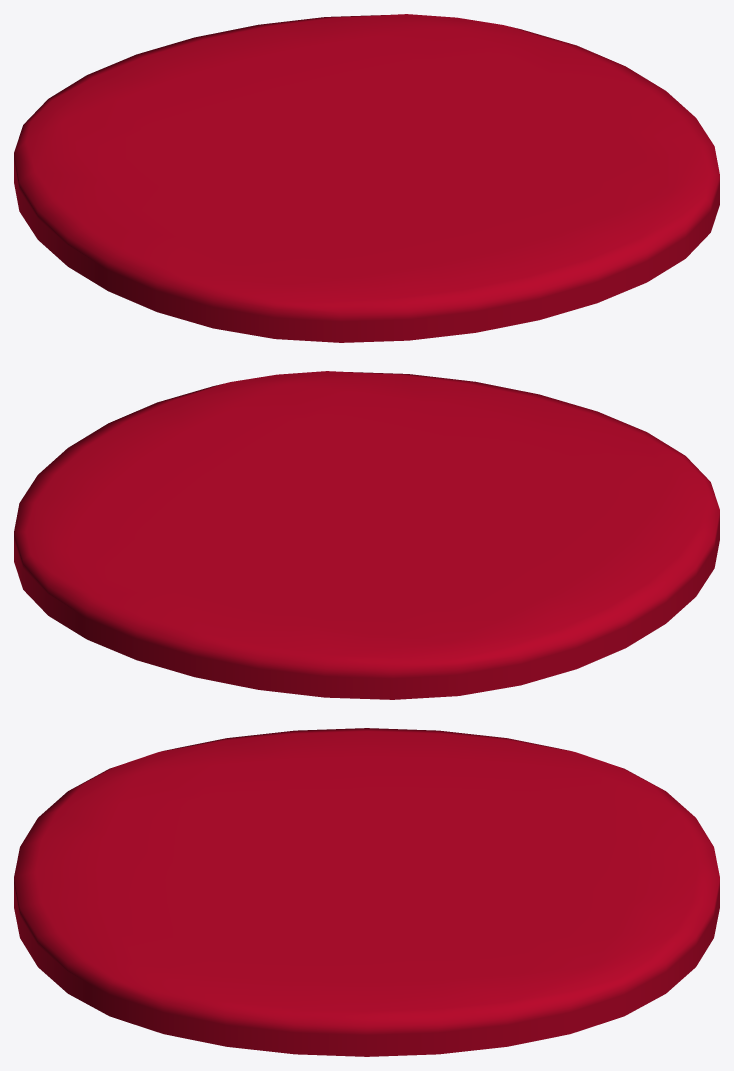
File: Pressure_Plate_Button.fbx
3 views of the same model, one above another, from view 1: azimuth 30°, elevation 25°; view 2: azimuth 150°, elevation 25°; view 3: azimuth 270°, elevation 25° (orthographic). The views are drawn at different scales.
Visible parts, largest first — view 1: Plane.001; view 2: Plane.001; view 3: Plane.001.
Boxes of the visible parts, x1,y1,x2,y2 form: Plane.001: [14, 14, 719, 342]; Plane.001: [14, 371, 719, 699]; Plane.001: [14, 728, 719, 1056].
Bounding box in the file's own units: 134 × 8.06 × 134.
